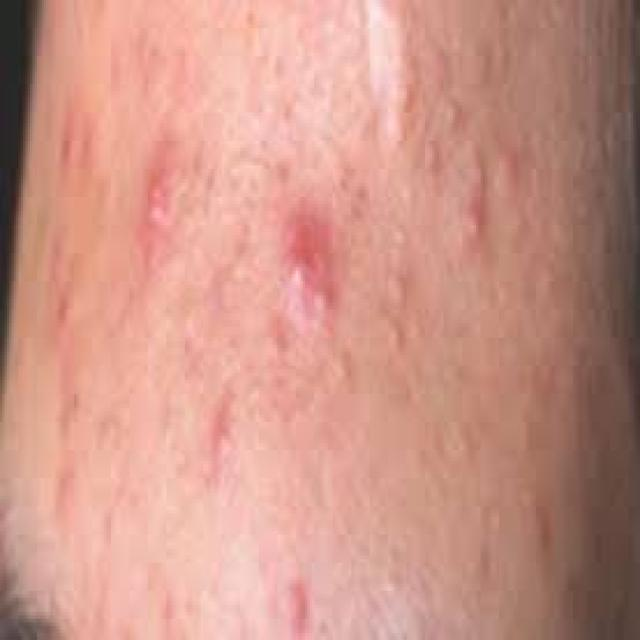Acne: (283, 207, 338, 337), (286, 578, 312, 640), (208, 413, 234, 471), (143, 176, 170, 231), (463, 210, 484, 243)
